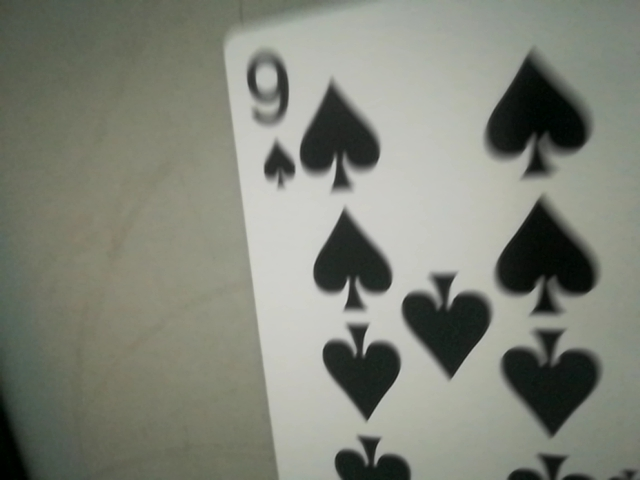ht 9: (231, 42, 309, 199)
